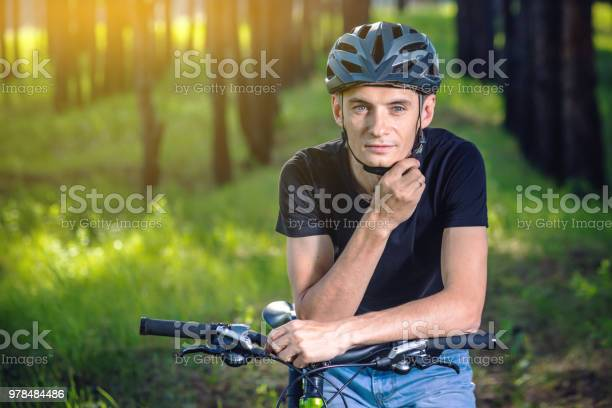helmet: (325, 21, 441, 173)
